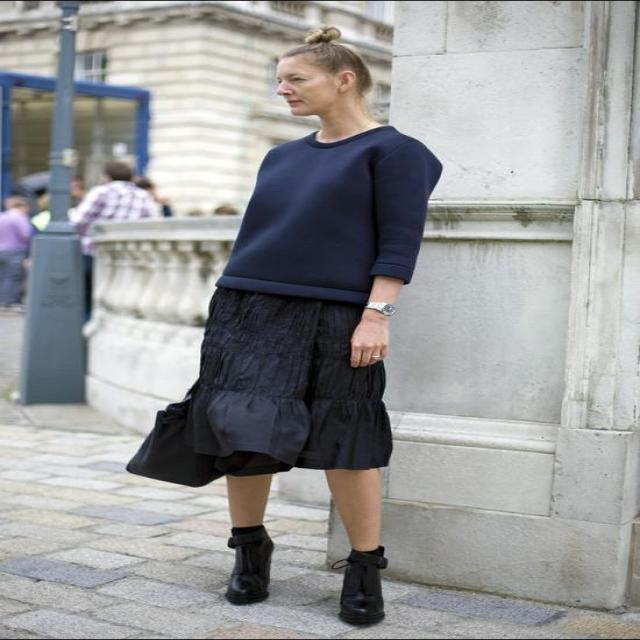Tshirt: (182, 124, 444, 304)
skirt: (192, 284, 392, 471)
